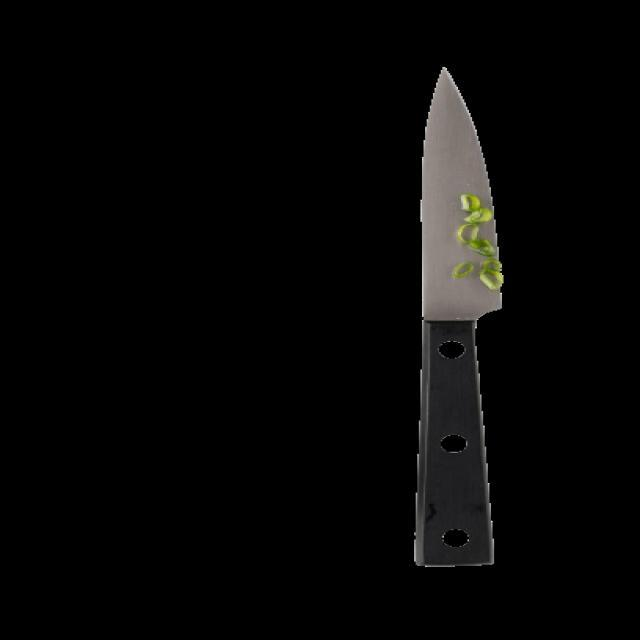knife: (403, 63, 513, 571)
